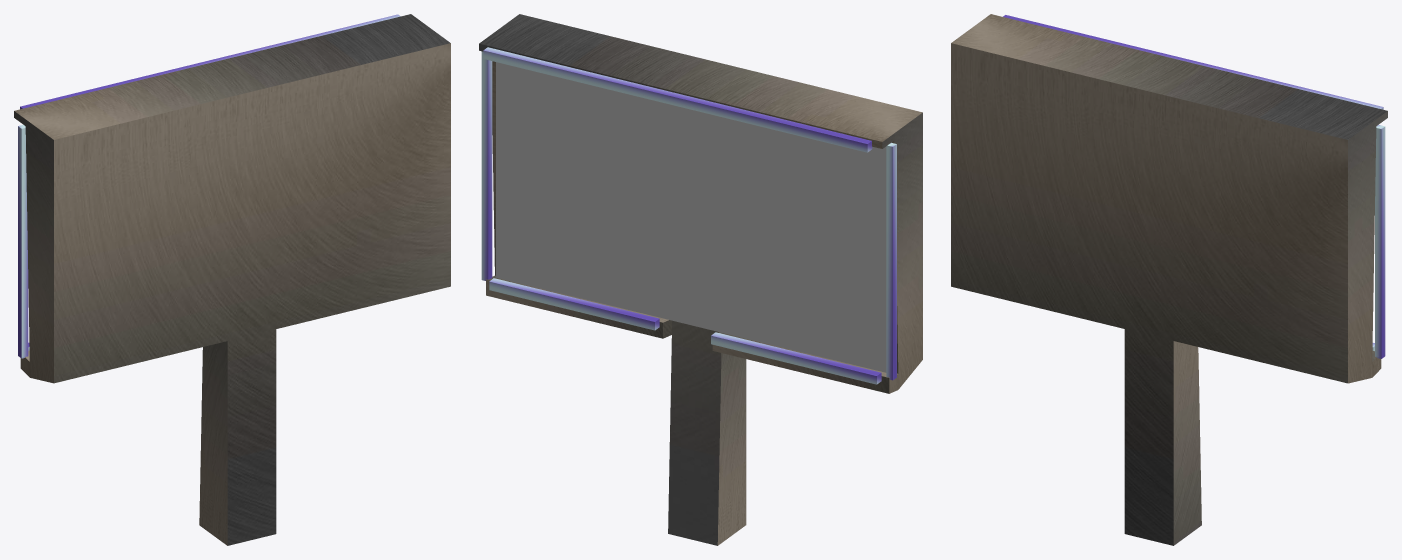
The model's file is billboard.fbx.
The picture shows the model from 3 angles, left to right: view 1: azimuth 30°, elevation 25°; view 2: azimuth 150°, elevation 25°; view 3: azimuth 330°, elevation 25°; orthographic projection.
Parts seen in each view (by area): view 1: Body, neon_light.001, neon_light; view 2: imageBox, Body, neon_light, neon_light.002, neon_light.001, neon_light.004, neon_light.003; view 3: Body, neon_light.002, neon_light.
Boxes of the visible parts, x1,y1,x2,y2 form: Body: (14,14,450,545); neon_light.001: (18,124,28,358); neon_light: (20,14,400,109); imageBox: (496,62,886,372); Body: (479,14,922,545); neon_light: (483,47,872,152); neon_light.002: (481,51,492,280); neon_light.001: (886,142,896,380); neon_light.004: (711,332,881,384); neon_light.003: (489,278,659,330); Body: (951,14,1387,545); neon_light.002: (1375,125,1385,358); neon_light: (1003,15,1383,109).
Bounding box in the file's own units: 952 × 1008 × 180.
